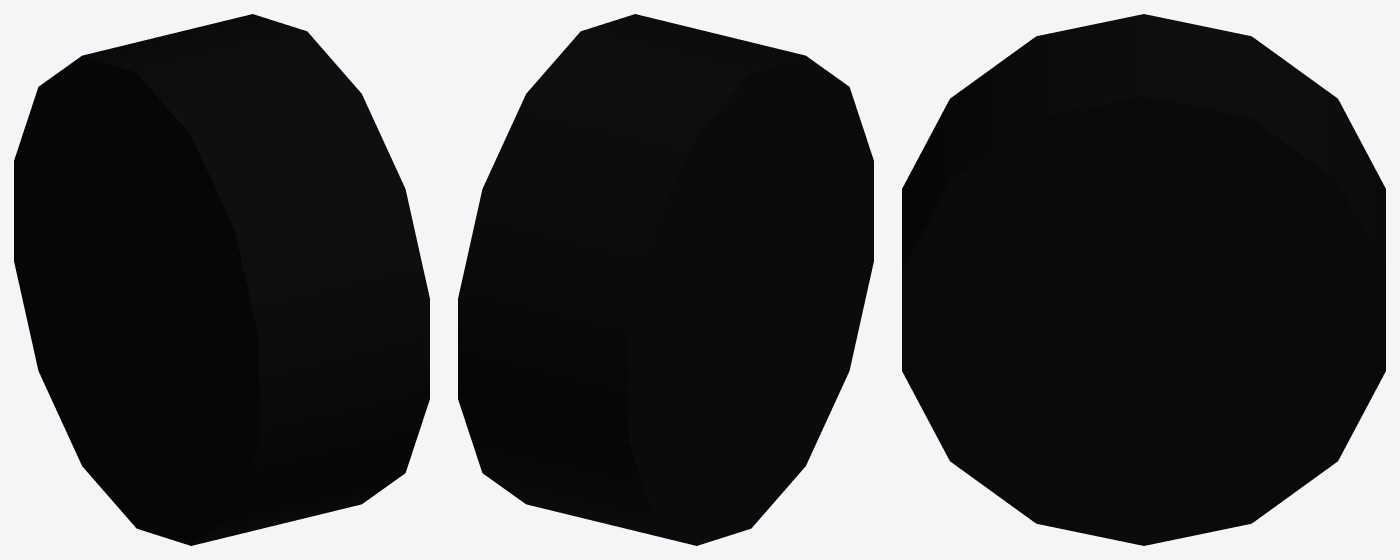
Rendered from forklift_wheel2.fbx.
The picture shows the model from 3 angles, left to right: view 1: azimuth 30°, elevation 25°; view 2: azimuth 150°, elevation 25°; view 3: azimuth 270°, elevation 25°; orthographic projection.
Parts seen in each view (by area): view 1: forklift_wheel2; view 2: forklift_wheel2; view 3: forklift_wheel2.
Boxes of the visible parts, x1=… form: forklift_wheel2: x1=14, y1=14, x2=429, y2=545; forklift_wheel2: x1=458, y1=14, x2=873, y2=545; forklift_wheel2: x1=902, y1=14, x2=1385, y2=545.
Bounding box in the file's own units: 23.62 × 60.27 × 58.76.
